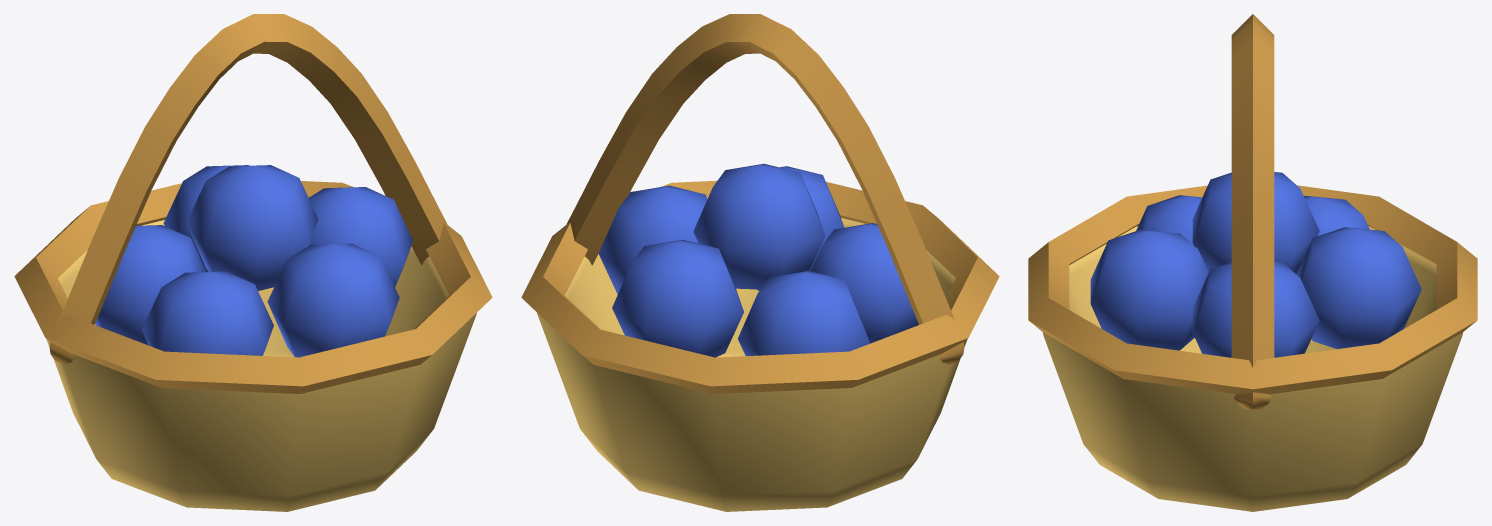
File: item_berries.glb
The picture shows the model from 3 angles, left to right: view 1: azimuth 30°, elevation 25°; view 2: azimuth 150°, elevation 25°; view 3: azimuth 270°, elevation 25°; orthographic projection.
Parts seen in each view (by area): view 1: item_berries; view 2: item_berries; view 3: item_berries.
Boxes of the visible parts, x1,y1,x2,y2 form: item_berries: (14, 14, 492, 511); item_berries: (521, 14, 999, 511); item_berries: (1028, 14, 1477, 511).
Bounding box in the file's own units: 0.198 × 0.199 × 0.1883.
